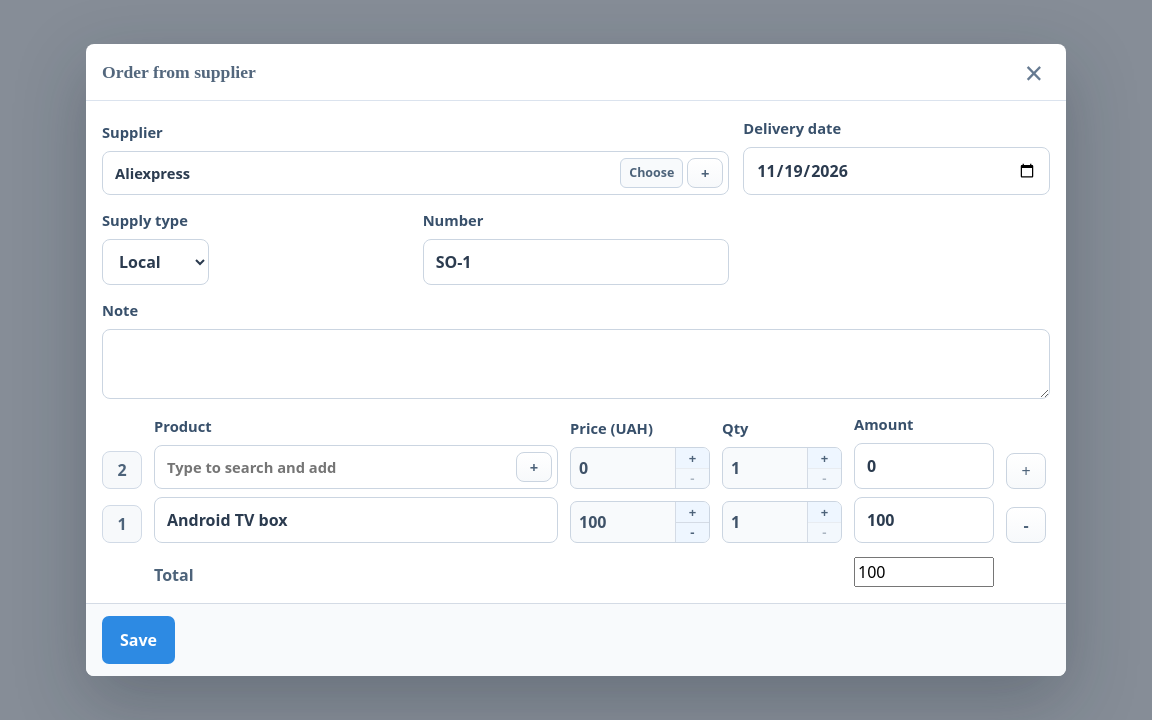
Test: SupplierOrderModal price/qty steppers › keeps existing lines when adding another product while editing
The width and height of the screenshot is (1152, 720).
expect the number of elements with class "supplier-order-basket-row" is 1: met, box [102,497,1050,543]
expect the 1st field showing "Android TV box" is shown: met, box [154,497,558,543]
Type "USB Hub 4 ports" into the field with placeholder "Type to search and add" at (356, 467), box [154,445,558,489]
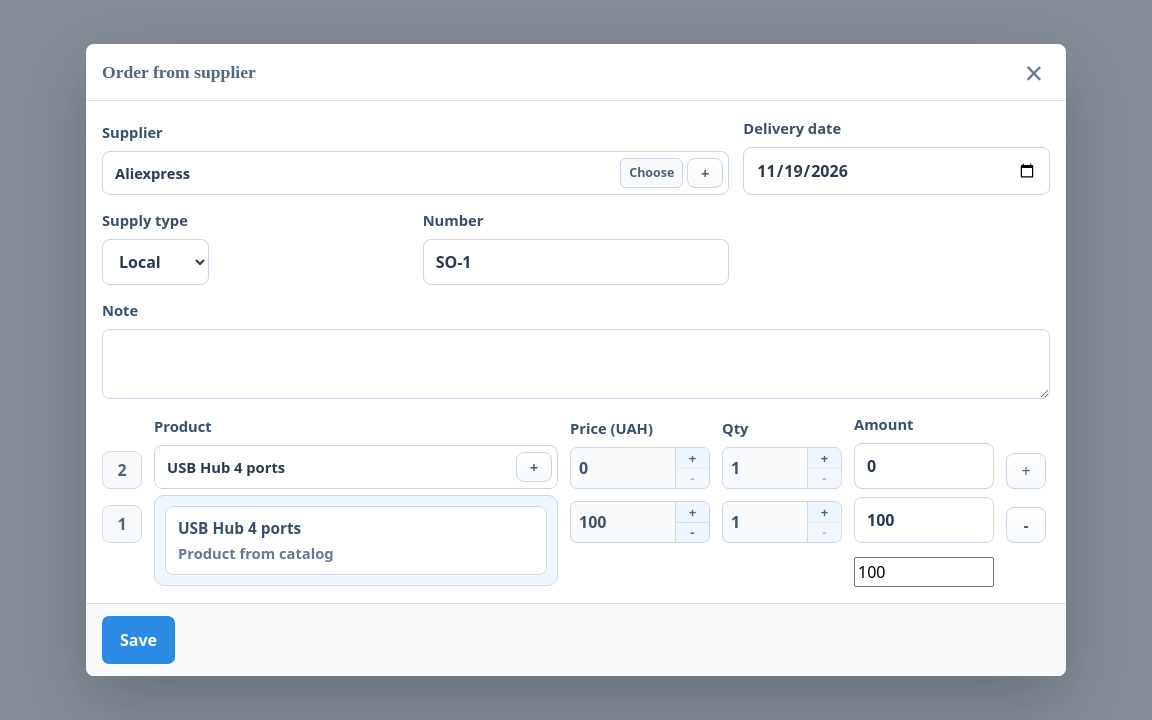
Click the button "USB Hub 4 ports Product from catalog" at (240, 529), box [165,506,547,575]
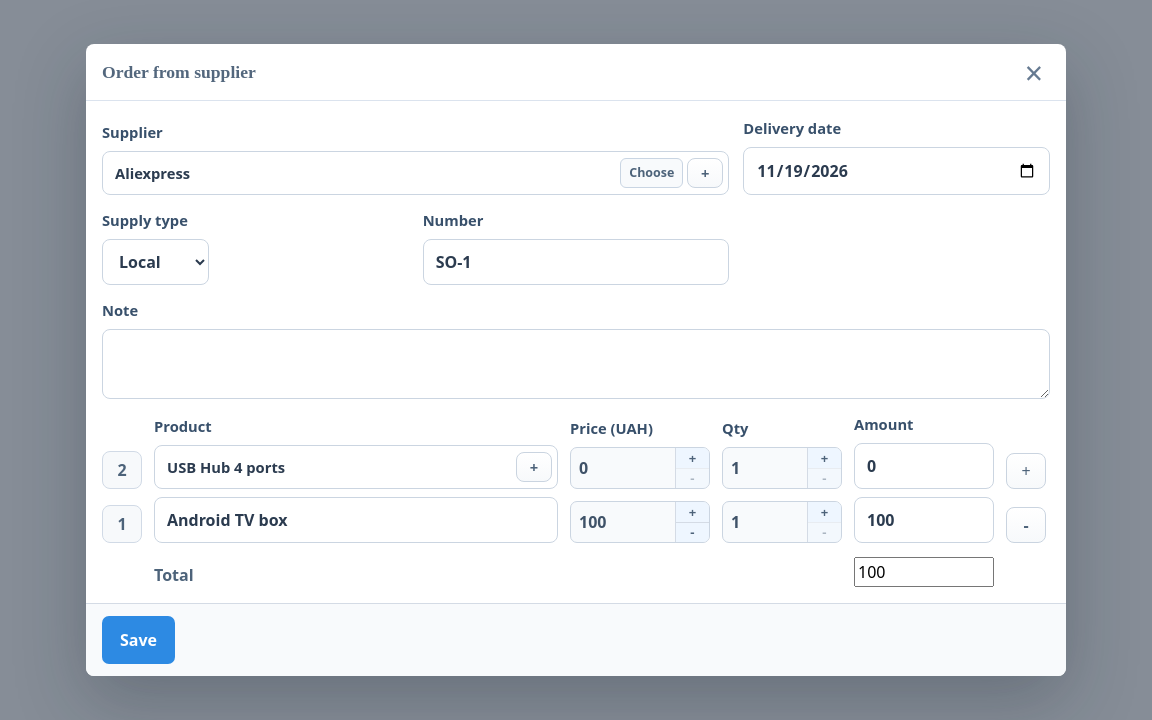
Click the button named "Add product to order list" at (1026, 471), box [1006,453,1046,489]
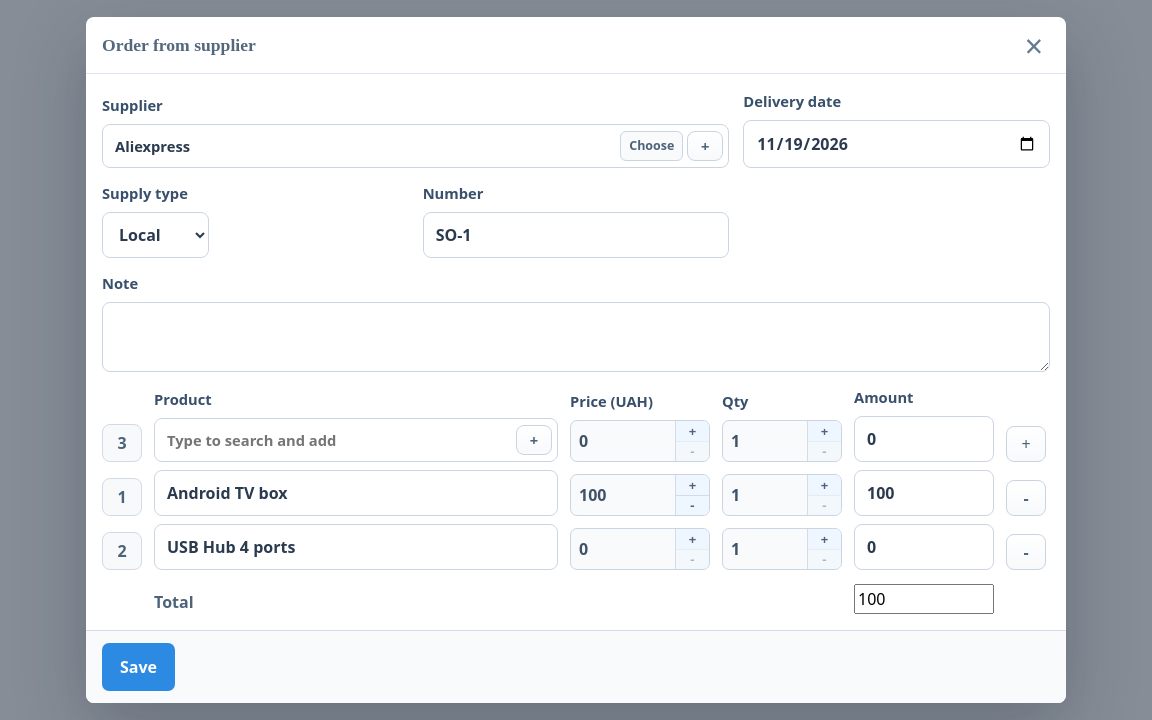
expect the 1st field showing "Android TV box" is shown: met, box [154,470,558,516]
expect the number of elements with class "supplier-order-basket-row" is 2: met, box [102,470,1050,516]; [102,524,1050,570]
expect the 3rd field showing "USB Hub 4 ports" is shown: met, box [154,524,558,570]
